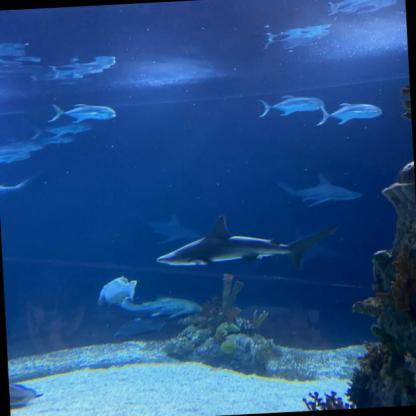fish: (120, 292, 206, 324), (256, 93, 326, 118), (46, 101, 116, 125), (316, 101, 382, 126), (27, 118, 93, 140), (97, 275, 138, 309)
shark: (155, 207, 345, 280), (274, 170, 362, 209), (0, 172, 42, 200)
